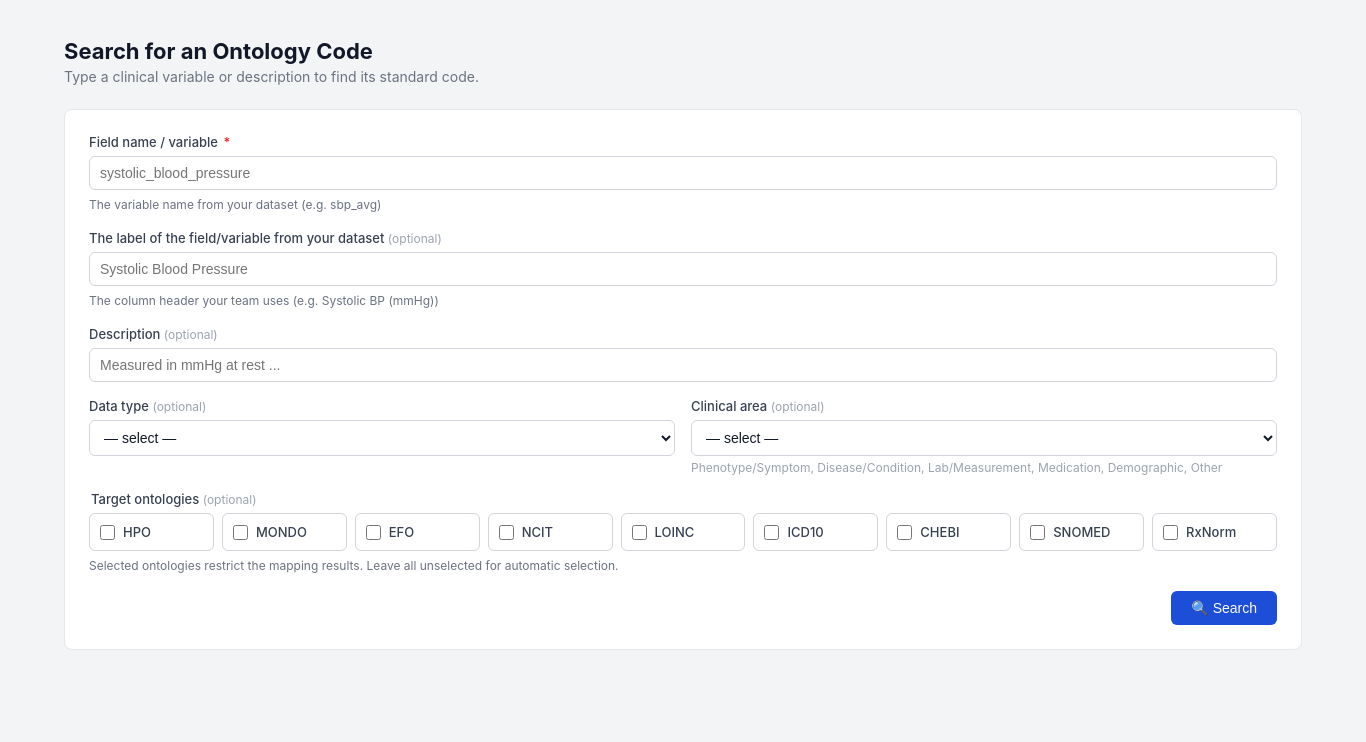
Scenario: SearchPage retrieval method display › renders public as Public ontology databases (grounded)
The width and height of the screenshot is (1366, 742).
Type "sbp" into the field labelled "Field name / variable *".
click(683, 173); type("sbp")  # box [89,156,1277,190]
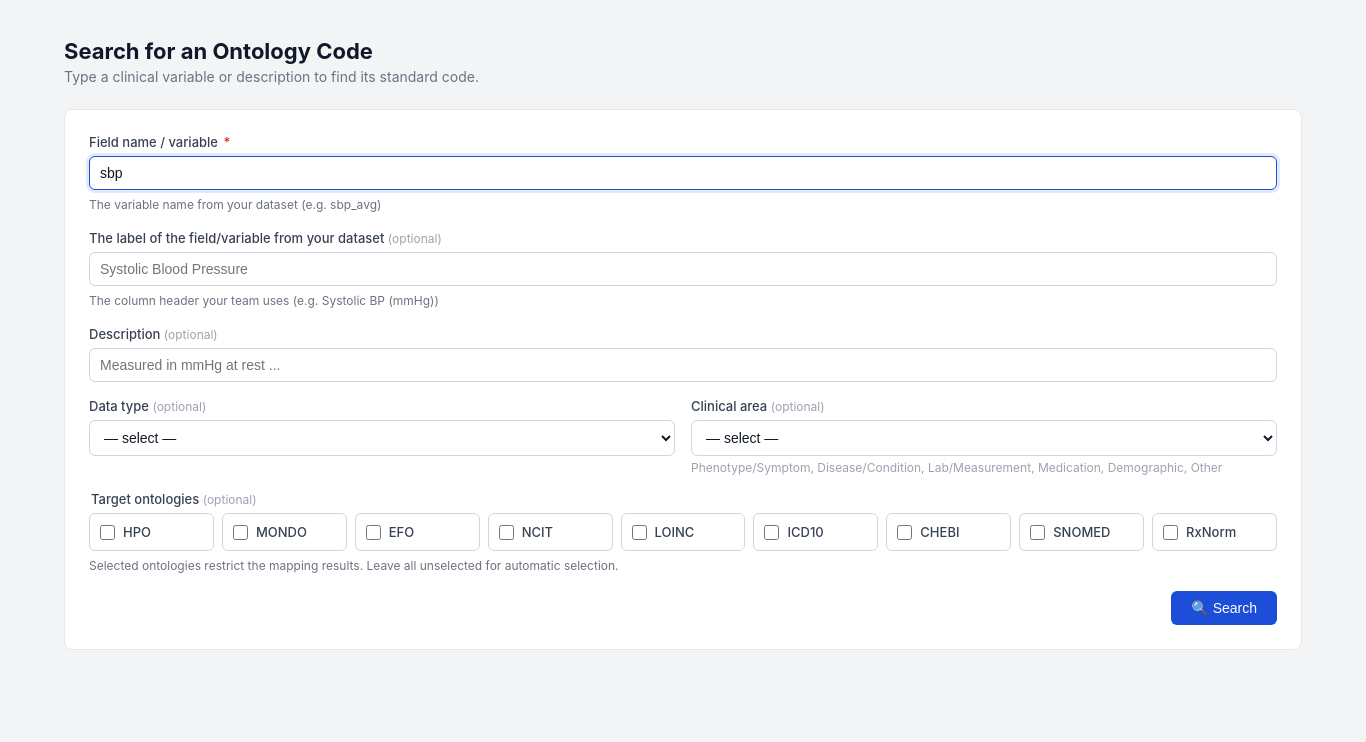
Click the button "🔍 Search".
click(1224, 608)  # box [1171,591,1277,625]
(page scrolled)
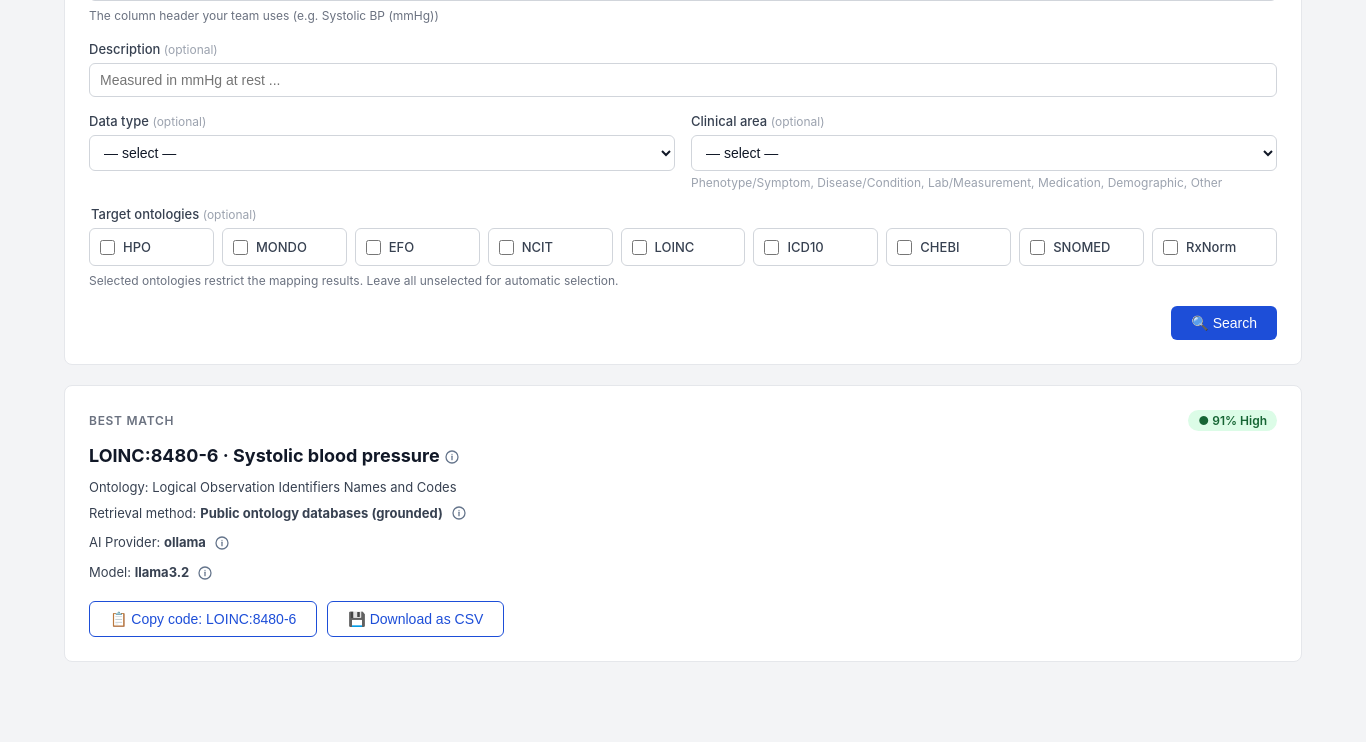
Expected: the text "Public ontology databases (grounded)" is shown, [200,505,443,521]
Expected: the text "Retrieval method: Public ontology databases (grounded)" is shown, [89,501,471,525]
